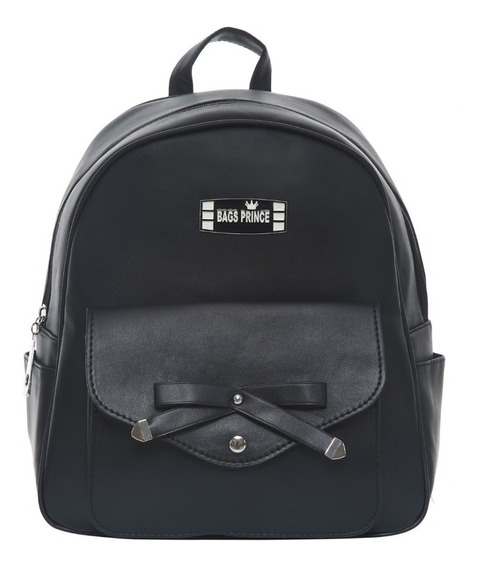cartera: (20, 24, 449, 545)
